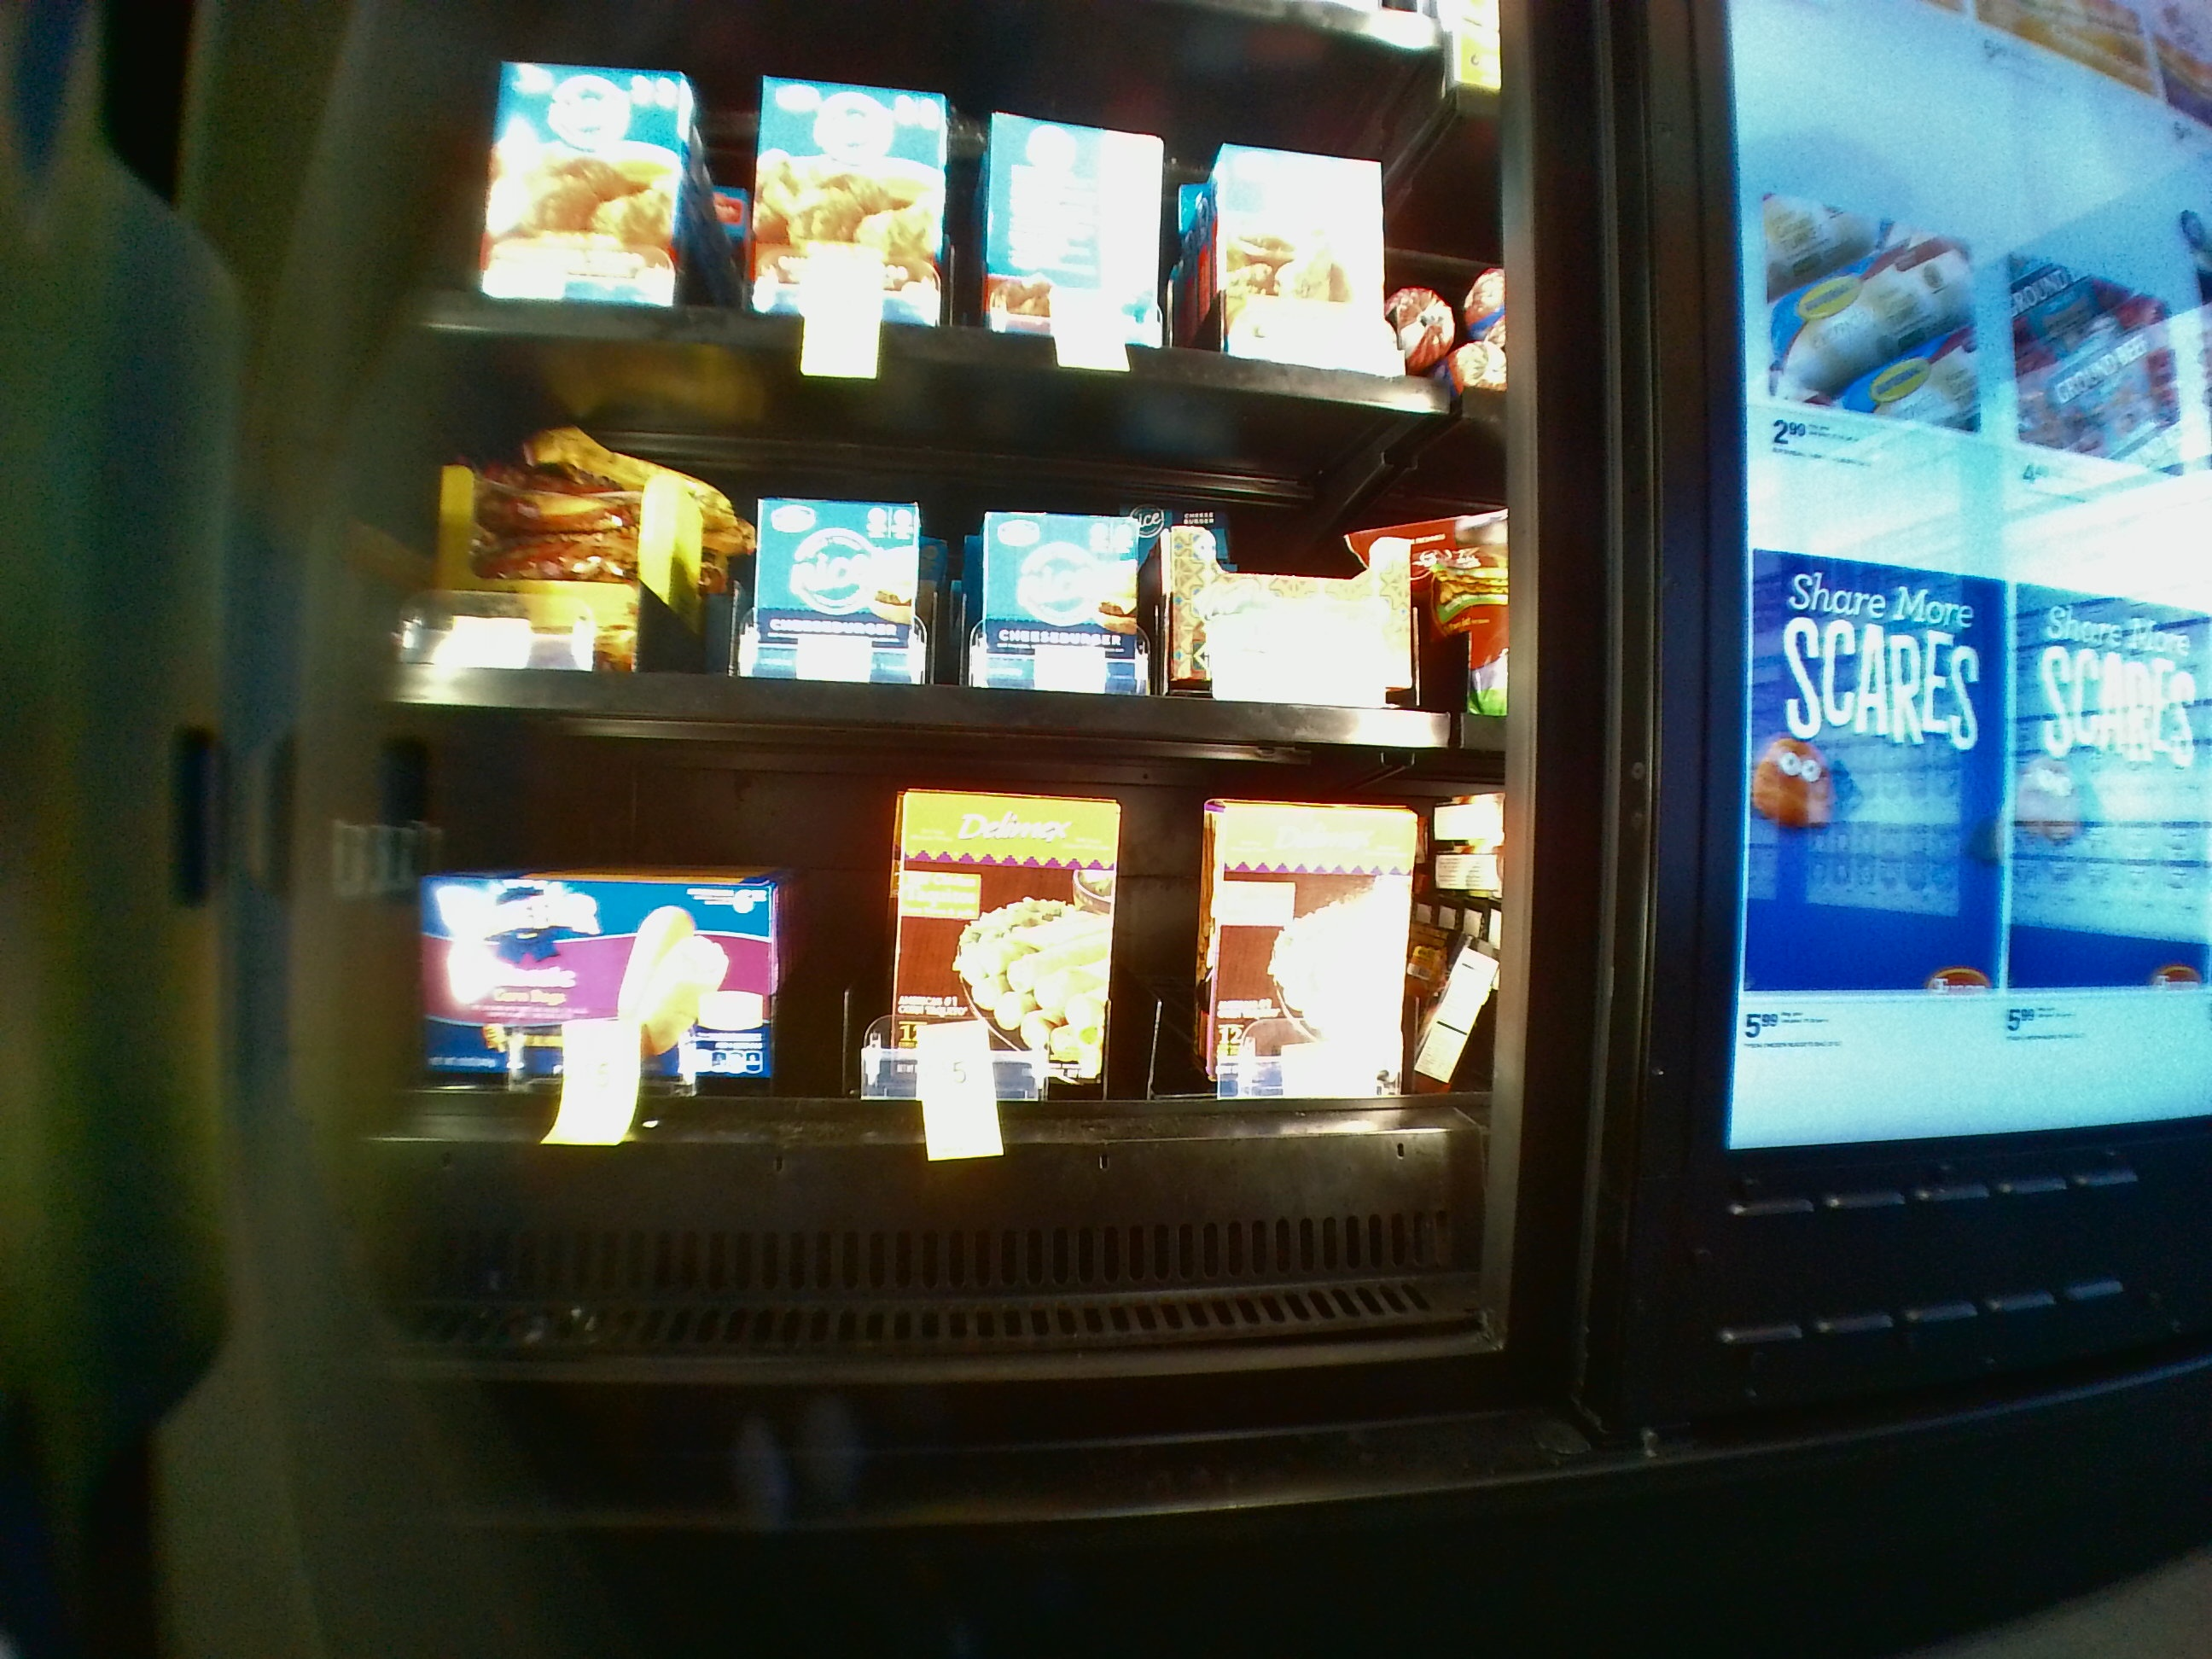shelf: (361, 758, 1493, 1328), (369, 408, 1501, 748)
